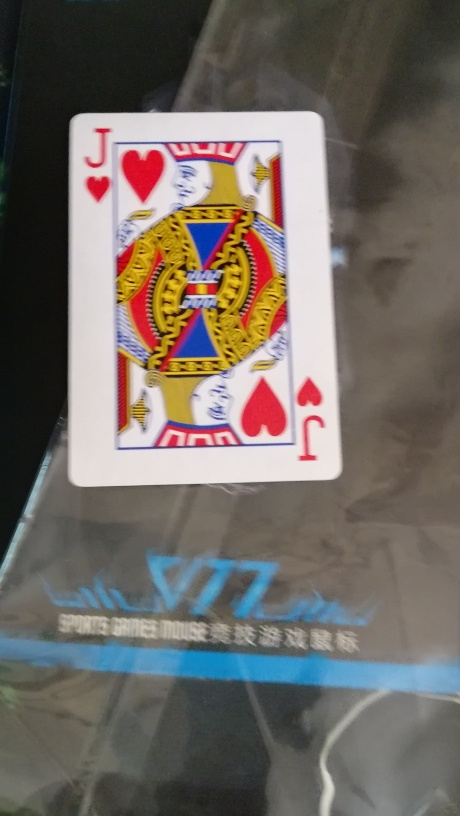hx j: (60, 109, 342, 485)
